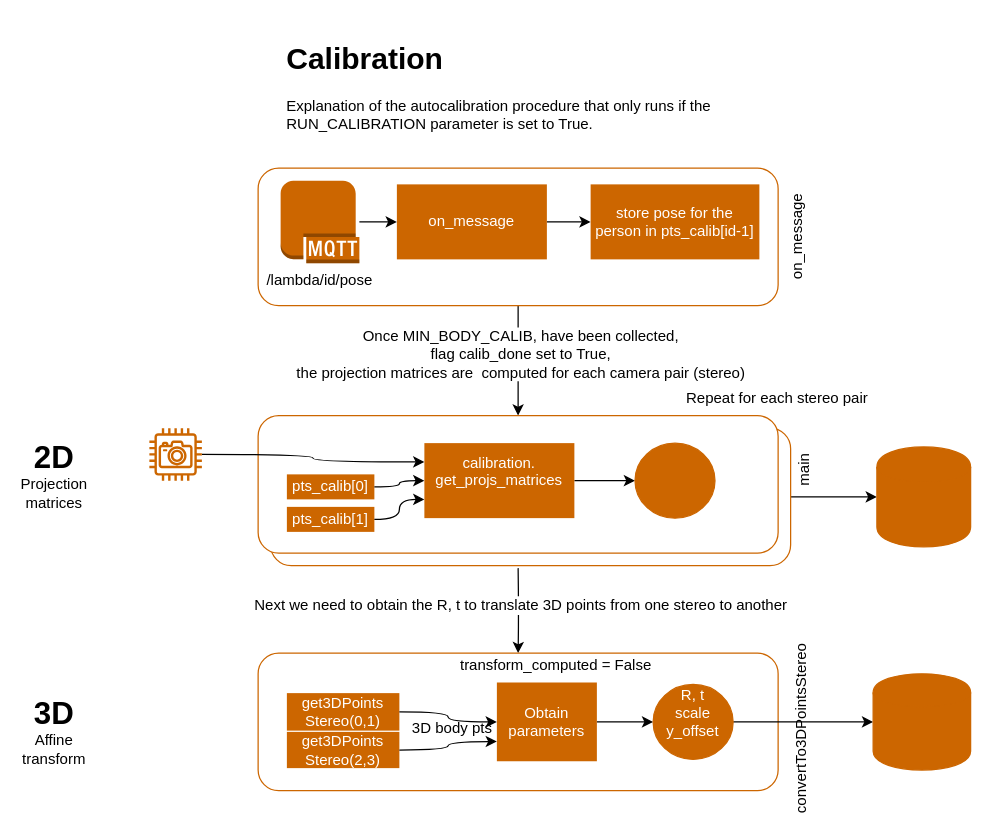
This 993x838 diagram has some shape labels left out. The centre of each missing label's shape, as x and y in pixels:
affine .npz: pixel 921 721
Camera Intrinsics (Obtained previously): pixel 175 454
projections .npz: pixel 923 496
projs[0] projs[1]: pixel 674 480
